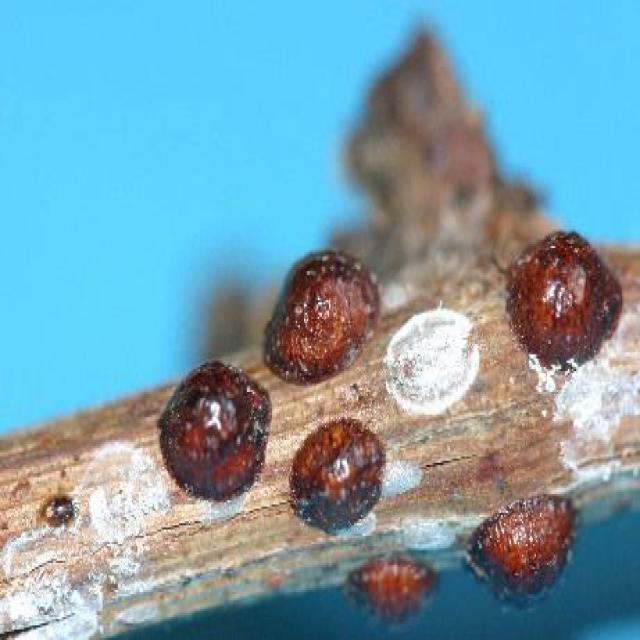BlackScale: (506, 231, 620, 371), (160, 360, 270, 500), (265, 252, 376, 382), (466, 496, 576, 606), (290, 419, 384, 534), (347, 554, 436, 622)
